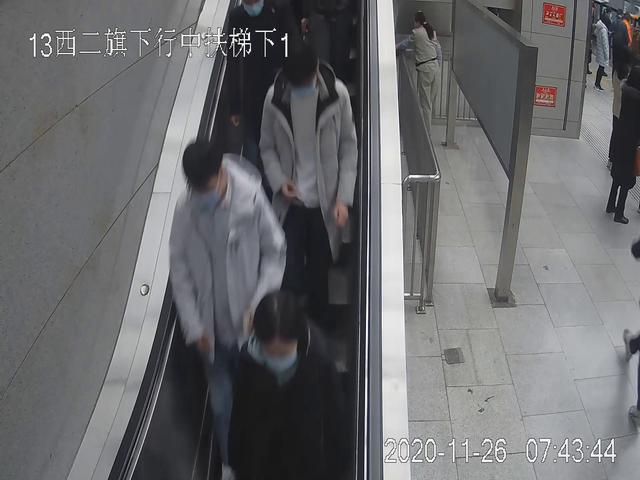person: (171, 142, 287, 480), (260, 45, 356, 350), (230, 292, 345, 480), (400, 10, 450, 148), (608, 75, 640, 222), (591, 14, 613, 90)
